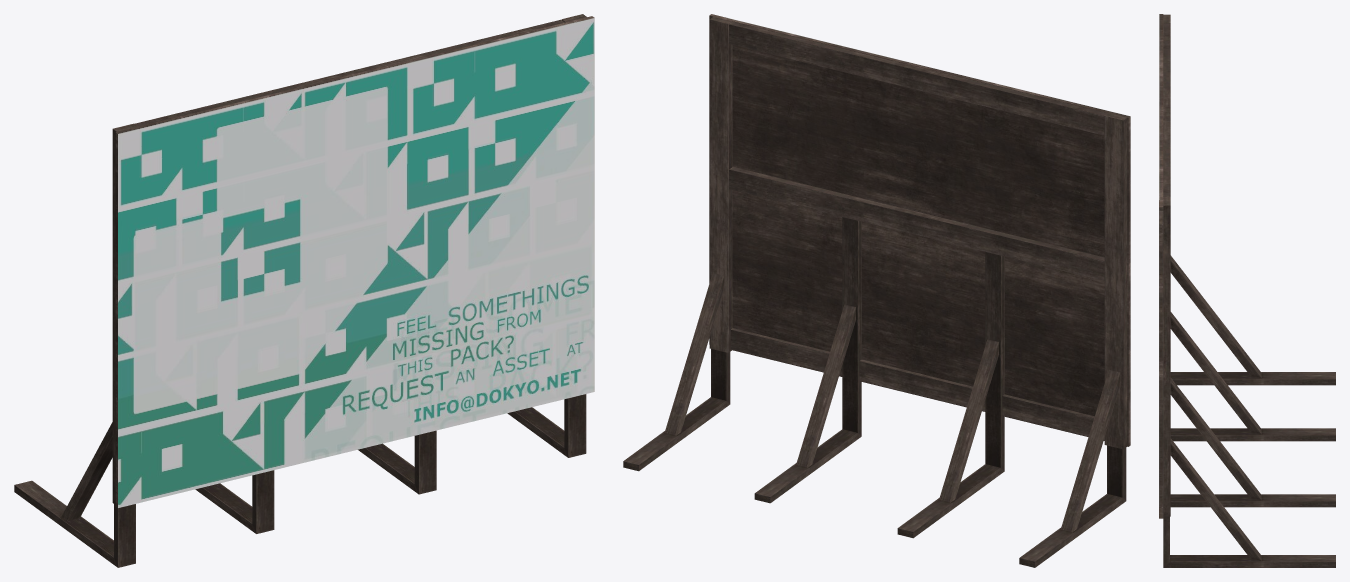
The model's file is SM_Dokyo_Board_01.glb.
3 views of the same model, side by side, from view 1: azimuth 30°, elevation 25°; view 2: azimuth 150°, elevation 25°; view 3: azimuth 270°, elevation 25° (orthographic). The views are drawn at different scales.
Visible parts, largest first — view 1: SM_Dokyo_Board_01; view 2: SM_Dokyo_Board_01; view 3: SM_Dokyo_Board_01.
Boxes of the visible parts, bbox=[...] form: SM_Dokyo_Board_01: bbox=[14, 14, 594, 567]; SM_Dokyo_Board_01: bbox=[623, 14, 1130, 567]; SM_Dokyo_Board_01: bbox=[1159, 14, 1335, 567].
Size of the model in its own units: 4 by 3.5 by 1.54.
1 material, 1 textured.
